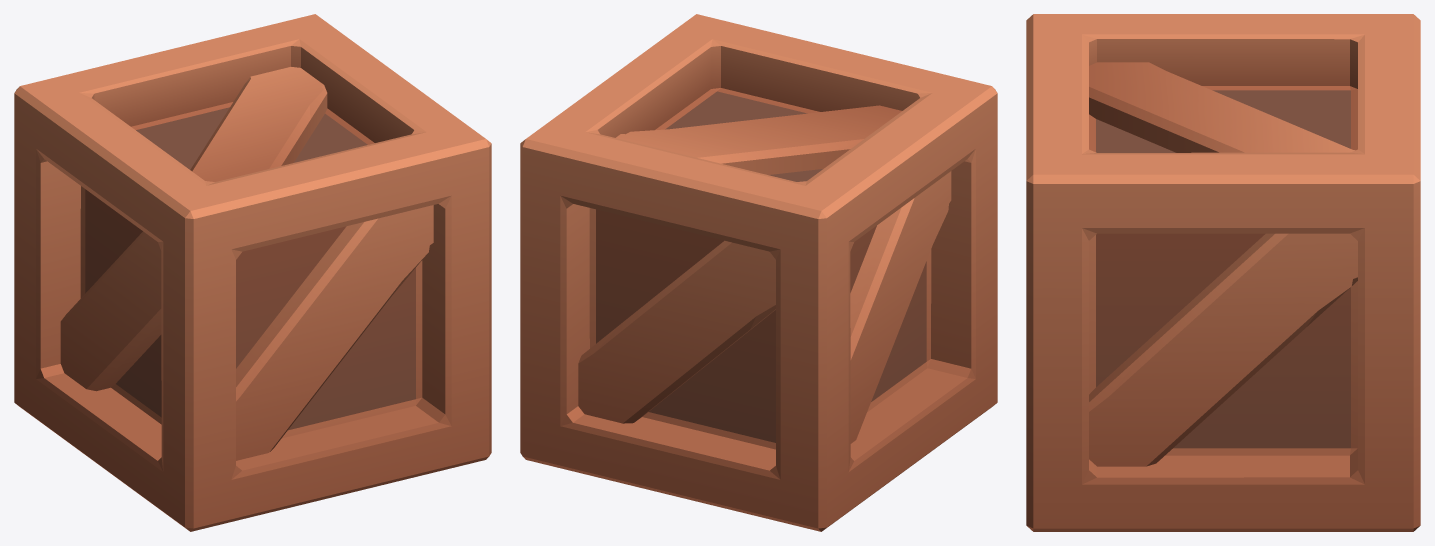
File: kenney-platformer__crate.glb
The picture shows the model from 3 angles, left to right: view 1: azimuth 30°, elevation 25°; view 2: azimuth 150°, elevation 25°; view 3: azimuth 270°, elevation 25°; orthographic projection. The views are drawn at different scales.
Parts seen in each view (by area): view 1: crate; view 2: crate; view 3: crate.
Part boxes in pixels (box(x1,y1,x2,y2)): crate: box(14, 14, 491, 531); crate: box(520, 14, 997, 531); crate: box(1026, 14, 1420, 531).
Bounding box in the file's own units: 0.5 × 0.5 × 0.5.
Materials: 1 (1 with a texture image).
